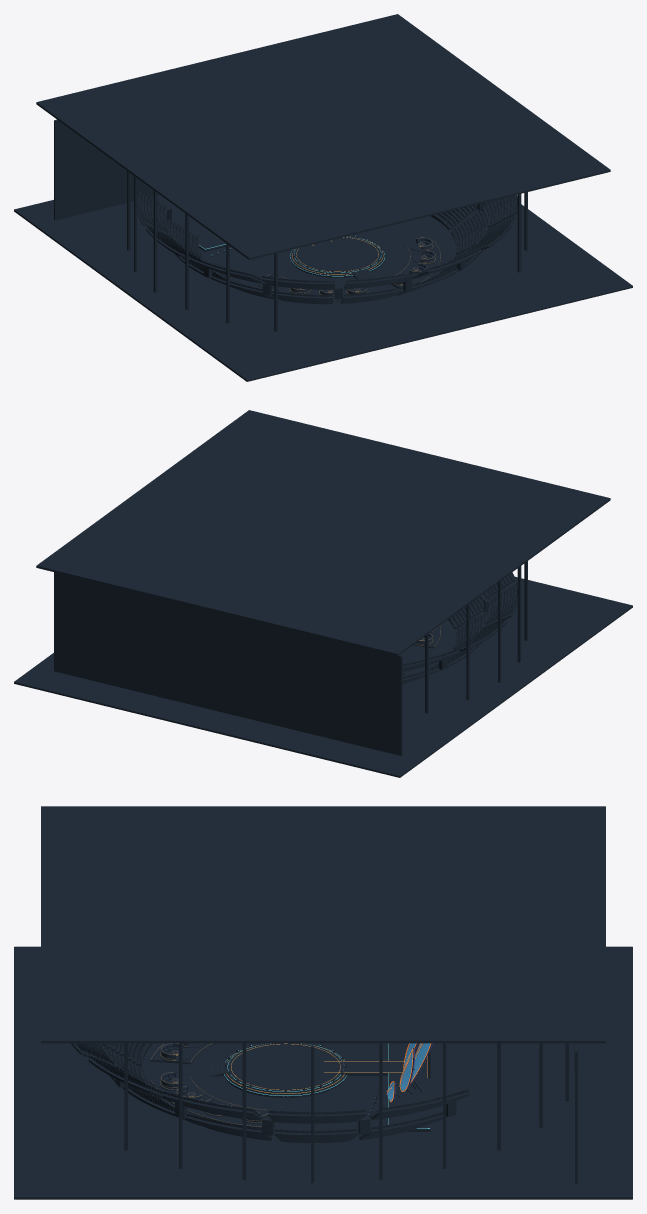
Rendered from nexavision-aurora-r03.glb.
The picture shows the model from 3 angles, top to bottom: view 1: azimuth 30°, elevation 25°; view 2: azimuth 150°, elevation 25°; view 3: azimuth 270°, elevation 25°; orthographic projection. The views are drawn at different scales.
Parts seen in each view (by area): view 1: Arena roof, Arena foundation, Arena rear enclosure, EMPTY SEATS | backs, EMPTY SEATS | cushions, Circular performance deck.002, Jury crescent terrace; view 2: Arena roof, Arena rear enclosure, Arena foundation, EMPTY SEATS | backs, EMPTY SEATS | cushions; view 3: Arena roof, Arena foundation, Circular performance deck.002, EMPTY SEATS | backs, Upstage platform, EMPTY SEATS | cushions, Runway | rear connection, Jury crescent terrace, Arena structural pier.007, Arena structural pier.006, Arena structural pier.005.
Boxes of the visible parts, x1,y1,x2,y2 form: Arena roof: (36, 14, 610, 259); Arena foundation: (14, 195, 632, 381); Arena rear enclosure: (54, 119, 159, 220); EMPTY SEATS | backs: (137, 189, 517, 296); EMPTY SEATS | cushions: (138, 191, 516, 297); Circular performance deck.002: (294, 236, 381, 273); Jury crescent terrace: (391, 241, 440, 288); Arena roof: (36, 410, 610, 655); Arena rear enclosure: (54, 572, 402, 755); Arena foundation: (14, 576, 632, 777); EMPTY SEATS | backs: (402, 572, 517, 678); EMPTY SEATS | cushions: (402, 573, 516, 679); Arena roof: (41, 806, 605, 1043); Arena foundation: (14, 946, 632, 1199); Circular performance deck.002: (227, 1043, 341, 1092); EMPTY SEATS | backs: (75, 1043, 468, 1135); Upstage platform: (388, 1043, 430, 1131); EMPTY SEATS | cushions: (75, 1043, 468, 1135); Runway | rear connection: (315, 1061, 403, 1075); Jury crescent terrace: (150, 1077, 267, 1128); Arena structural pier.007: (242, 1043, 246, 1179); Arena structural pier.006: (311, 1045, 314, 1183); Arena structural pier.005: (379, 1043, 382, 1179).
Size of the model in its own units: 110 by 31.3 by 115.
